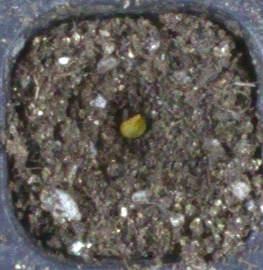pepper seed: (45, 44, 192, 183)
